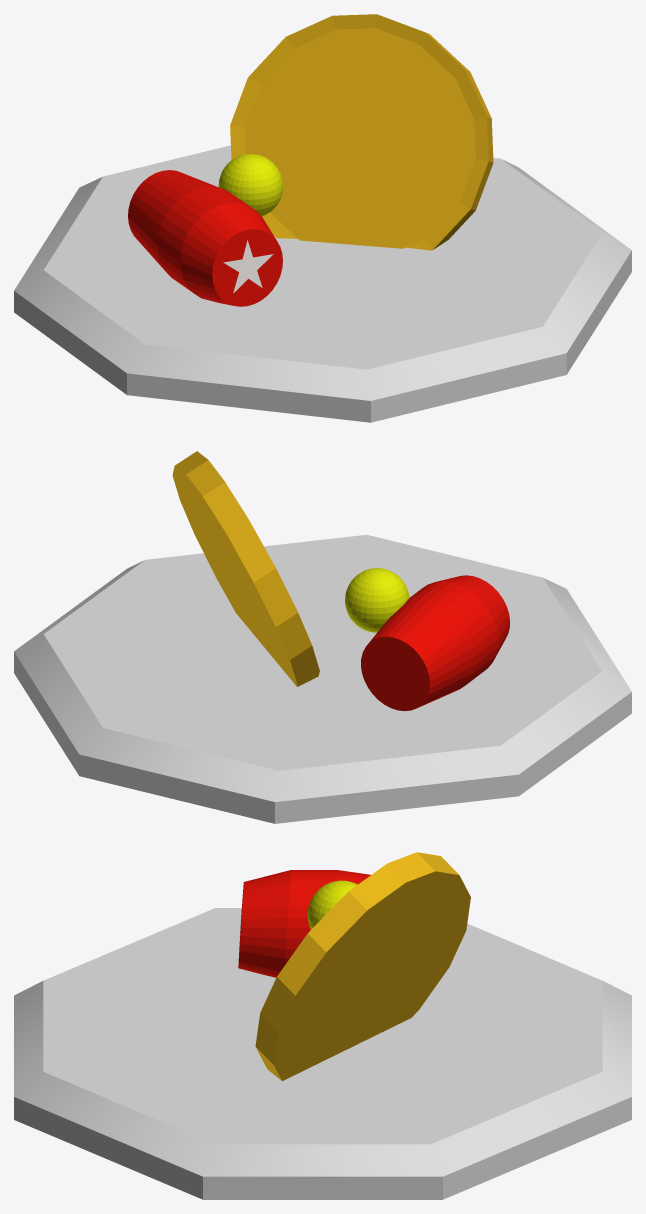
Rendered from Every15.fbx.
The picture shows the model from 3 angles, top to bottom: view 1: azimuth 30°, elevation 25°; view 2: azimuth 150°, elevation 25°; view 3: azimuth 270°, elevation 25°; orthographic projection. The views are drawn at different scales.
Visible parts, largest first — view 1: Cube.004, Cube.001, Text.001, Sphere; view 2: Cube.004, Text.001, Cube.001, Sphere; view 3: Cube.004, Cube.001, Text.001, Sphere.
Boxes of the visible parts, x1,y1,x2,y2 form: Cube.004: [14, 145, 631, 422]; Cube.001: [230, 14, 493, 250]; Text.001: [128, 170, 282, 306]; Sphere: [218, 154, 283, 216]; Cube.004: [14, 534, 631, 823]; Text.001: [361, 575, 509, 711]; Cube.001: [172, 451, 319, 686]; Sphere: [345, 568, 409, 632]; Cube.004: [14, 908, 631, 1199]; Cube.001: [255, 852, 470, 1081]; Text.001: [238, 870, 370, 977]; Sphere: [307, 880, 357, 929].
Size of the model in its own units: 90.03 by 40.07 by 90.03.
